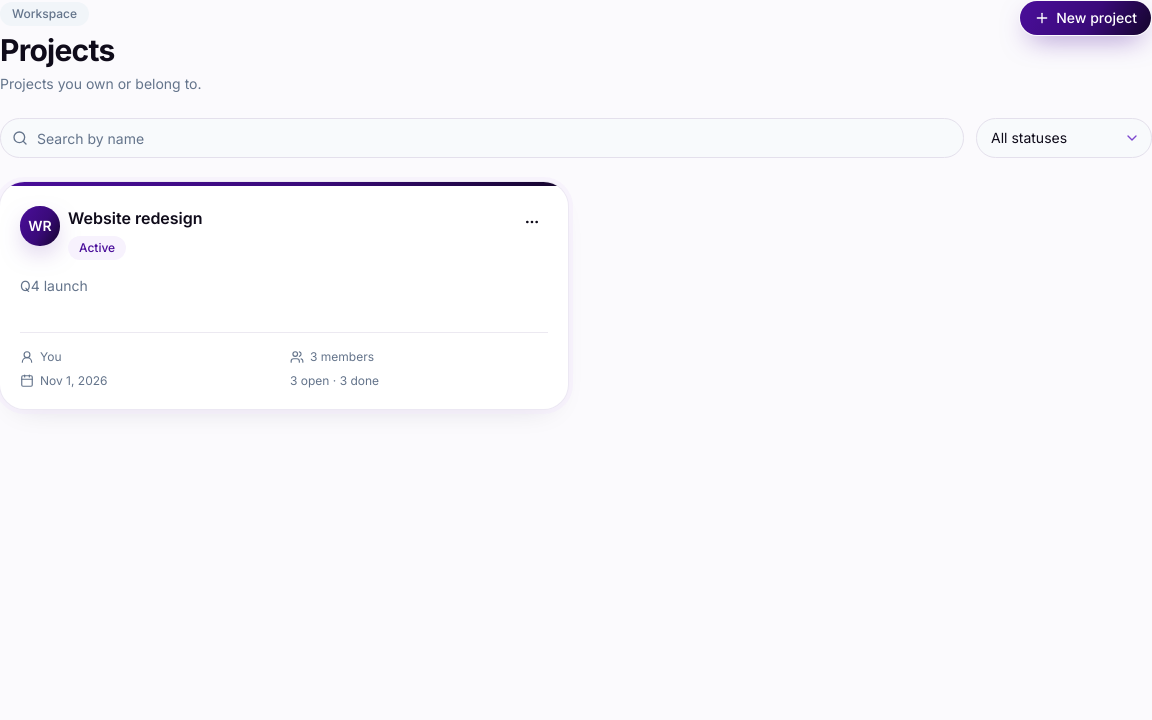
it: edit › sends only what changed and refreshes the list
This screenshot has width=1152, height=720.
expect the heading "Projects" is shown: met, box x1=0 y1=32 x2=114 y2=68
Click the button named "Actions for Website redesign" at (532,222), box x1=516 y1=206 x2=548 y2=238
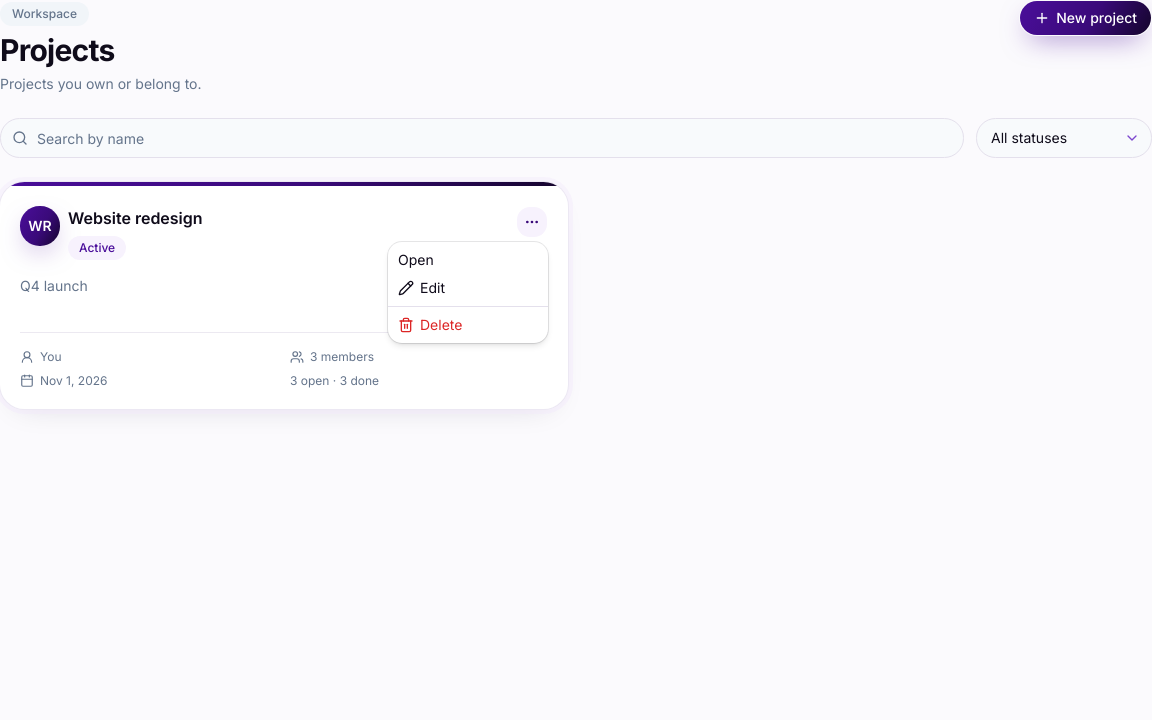
Click the menu item "Edit" at (422,288), box x1=398 y1=279 x2=445 y2=296
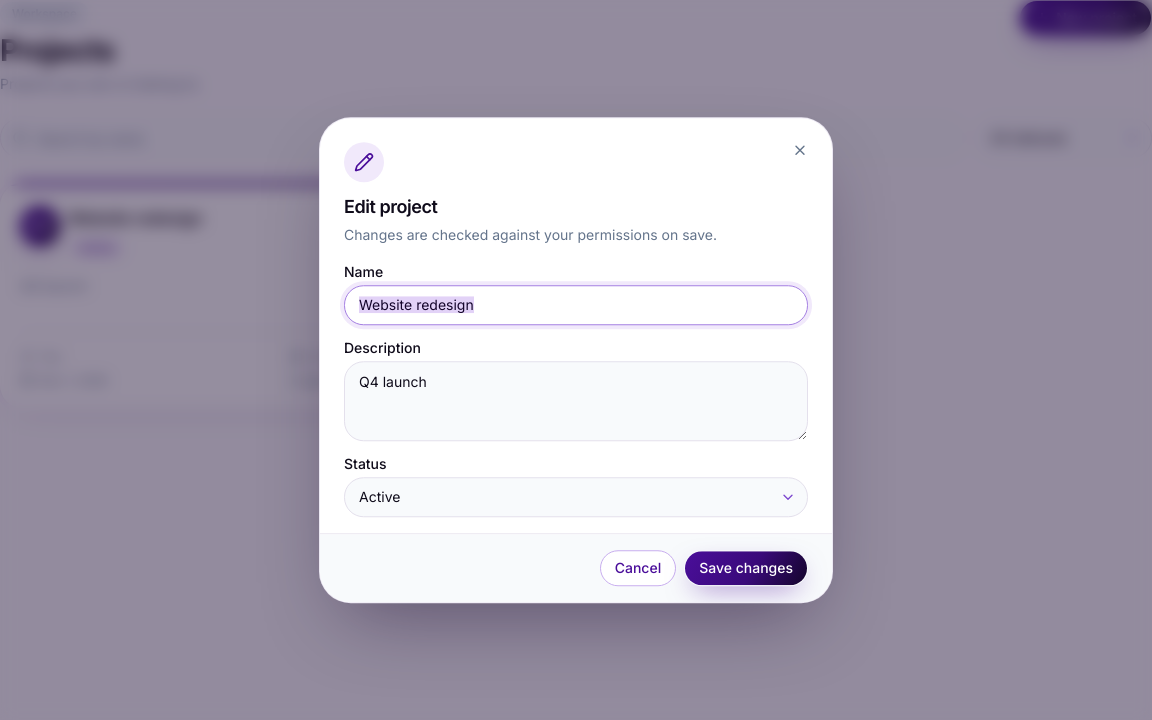
expect the field labelled "Name" holds "Website redesign": met
Replace the text in the field labelled "Name" with "Website v2" at (576,305), box x1=344 y1=285 x2=808 y2=325
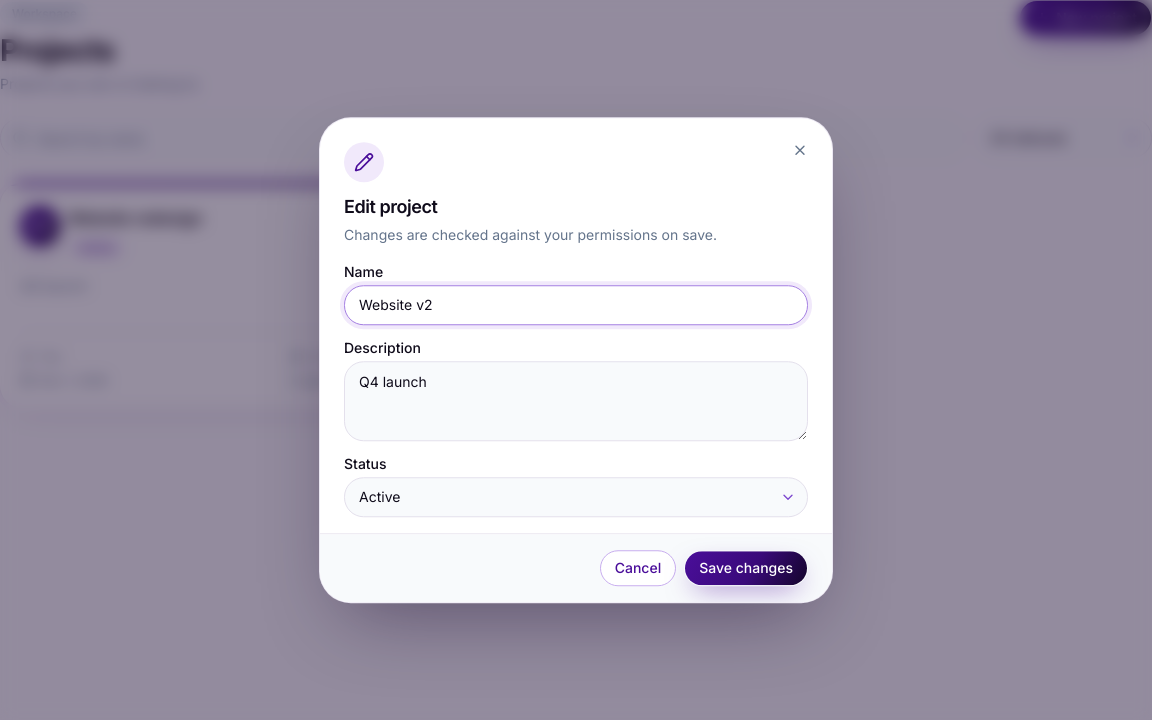
Clear the text box labelled "Description" at (576,401), box x1=344 y1=361 x2=808 y2=441
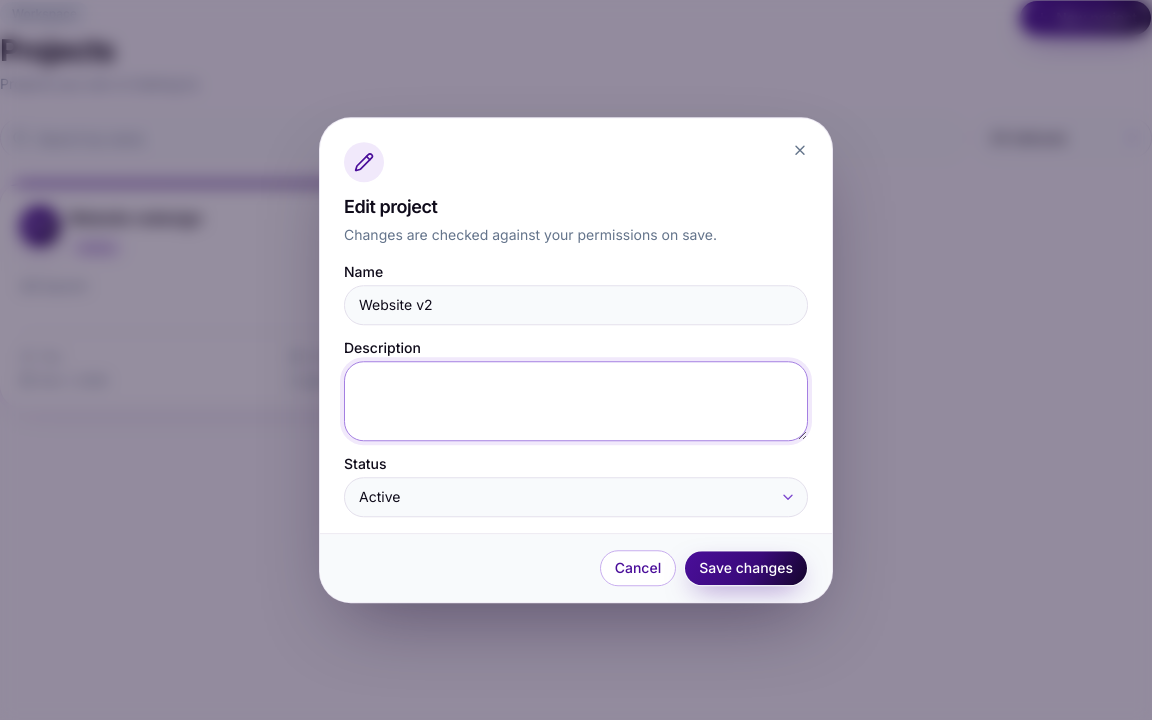
Click the button "Save changes" at (746,568), box x1=684 y1=550 x2=808 y2=586
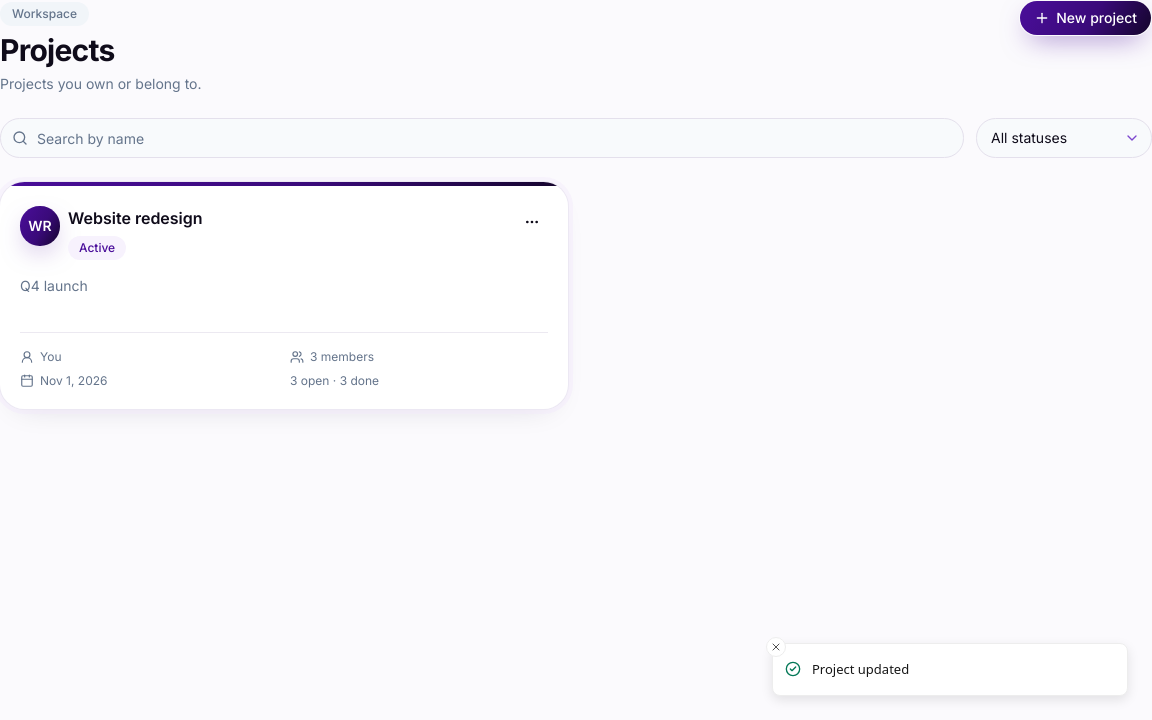
expect the dialog is gone: met
